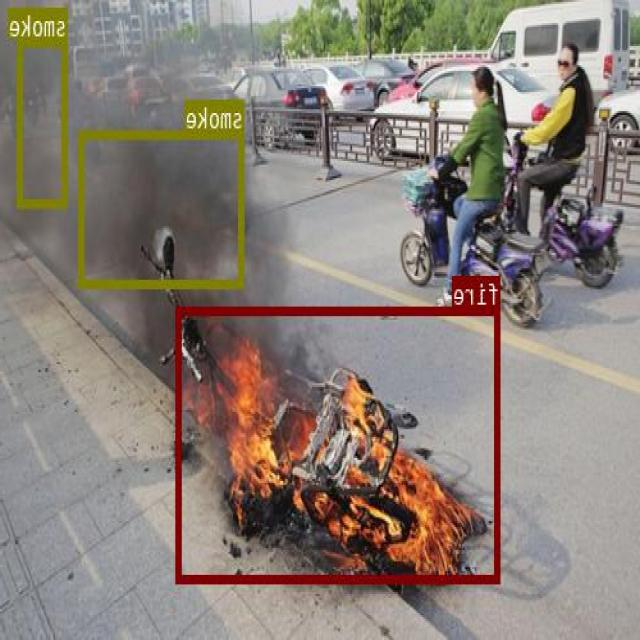fire: (178, 306, 501, 582)
smoke: (81, 130, 245, 286), (19, 38, 68, 206)
